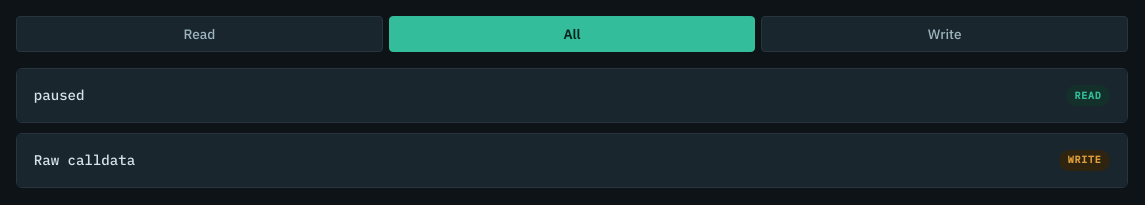
Test: the All / Read / Write filter › reports an empty filter result rather than showing a blank list
Click the button "Write". click: (945, 34)
box: [761,16,1128,52]
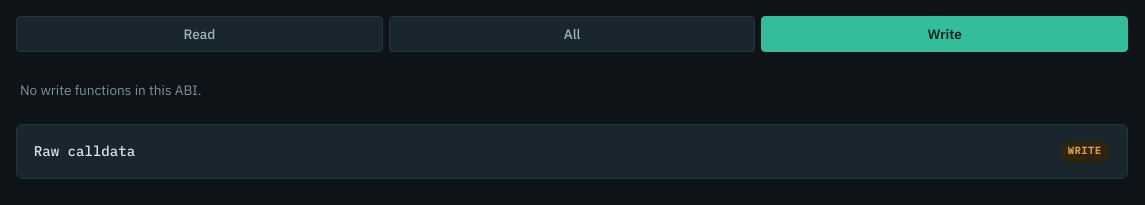
Expected: the text "Raw calldata" is shown, [34,142,135,160]
Expected: the text "No write functions in this ABI." is shown, [20,81,201,99]
